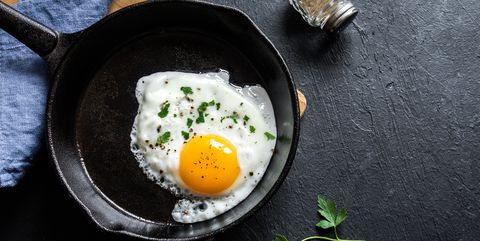fried egg: (137, 80, 249, 181)
